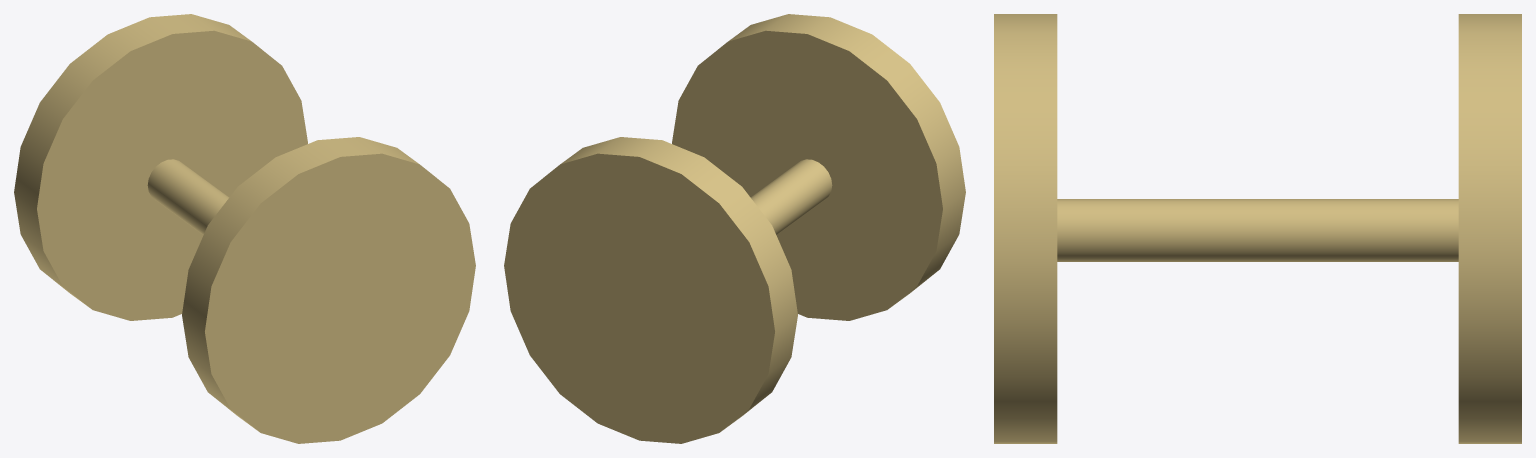
The model's file is dumbel_01.fbx.
The picture shows the model from 3 angles, left to right: view 1: azimuth 30°, elevation 25°; view 2: azimuth 150°, elevation 25°; view 3: azimuth 270°, elevation 25°; orthographic projection. The views are drawn at different scales.
Visible parts, largest first — view 1: polySurface1; view 2: polySurface1; view 3: polySurface1.
Boxes of the visible parts, <box> form: polySurface1: <box>14,14,475,443</box>; polySurface1: <box>504,14,965,443</box>; polySurface1: <box>994,14,1521,443</box>.
Bounding box in the file's own units: 3.91 × 3.91 × 4.76.
